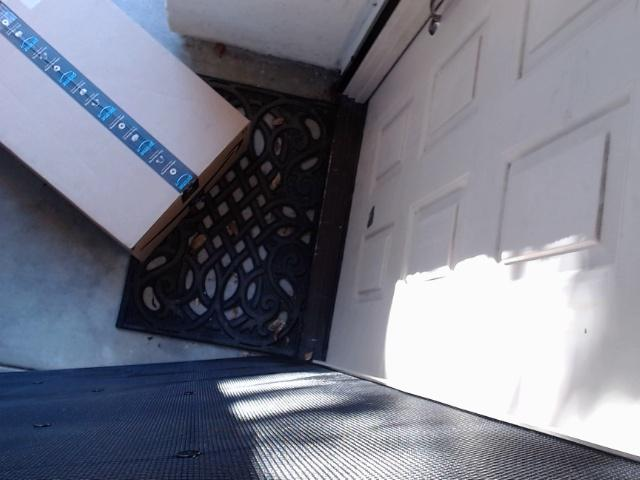box: (0, 0, 284, 266)
